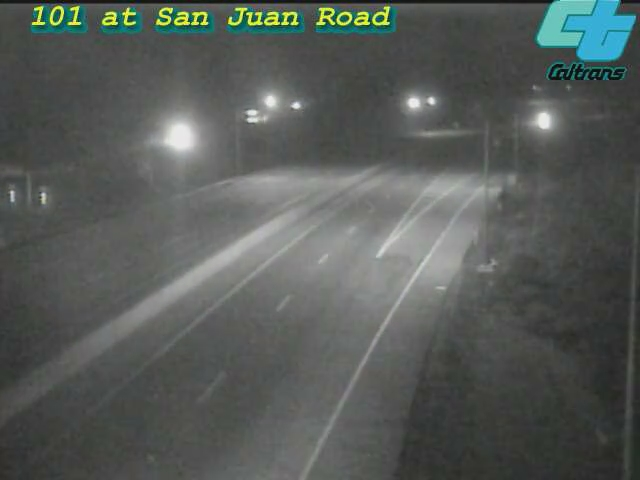vehicle: (516, 96, 566, 146)
